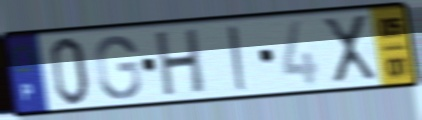0: (47, 34, 92, 107)
4: (280, 18, 322, 89)
G: (93, 33, 144, 102)
H: (154, 26, 207, 100)
I: (225, 23, 251, 94)
X: (319, 12, 380, 87)
